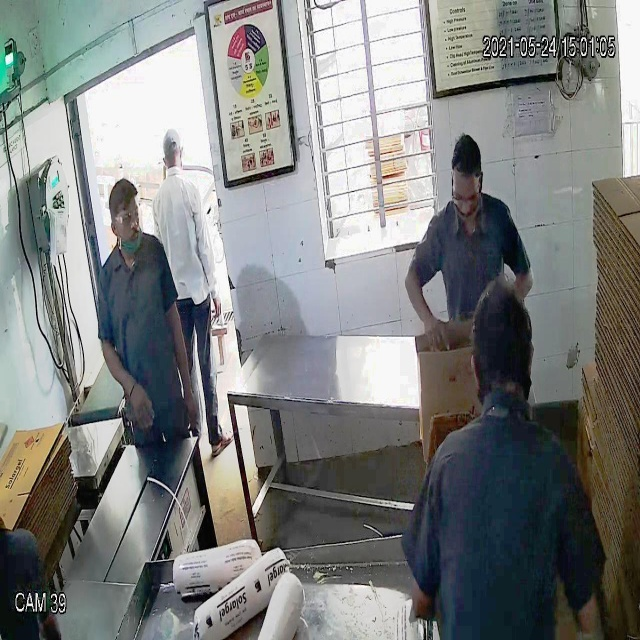Gafas: (449, 176, 485, 211), (109, 206, 144, 231)
